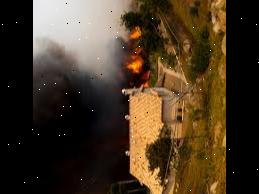fire: (122, 13, 153, 86)
